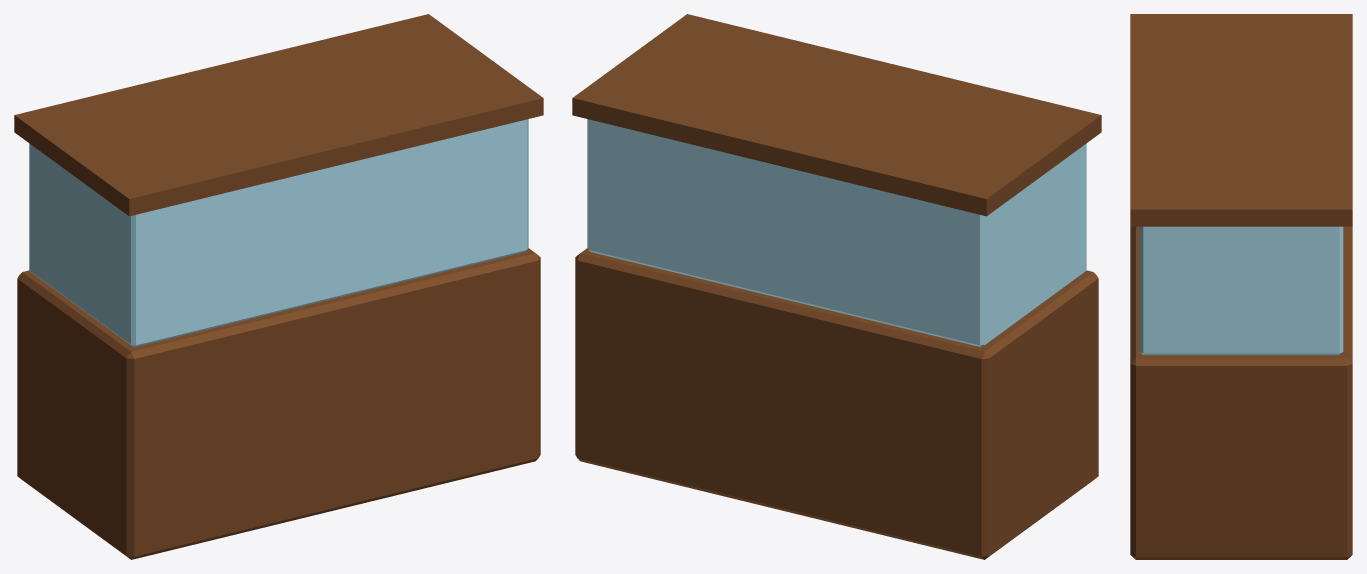
File: PastryCase.fbx
3 views of the same model, side by side, from view 1: azimuth 30°, elevation 25°; view 2: azimuth 150°, elevation 25°; view 3: azimuth 270°, elevation 25° (orthographic). The views are drawn at different scales.
Visible parts, largest first — view 1: PastryCase; view 2: PastryCase; view 3: PastryCase.
Part boxes in pixels (left/top/right/bottom): PastryCase: left=14, top=14, right=543, bottom=559; PastryCase: left=572, top=14, right=1101, bottom=559; PastryCase: left=1130, top=14, right=1352, bottom=559.
Size of the model in its own units: 5 by 4.2 by 2.4.
1 material, 1 textured.
